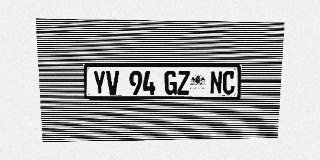4: (143, 71, 155, 95)
9: (129, 71, 142, 95)
C: (222, 71, 235, 94)
G: (164, 71, 177, 95)
N: (210, 71, 222, 94)
V: (106, 71, 119, 95)
Y: (93, 71, 106, 95)
Z: (177, 71, 190, 94)
